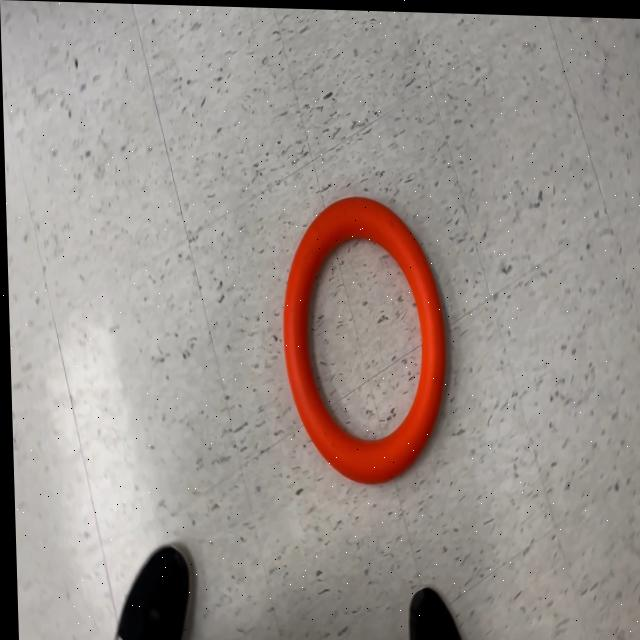note: (277, 192, 449, 486)
